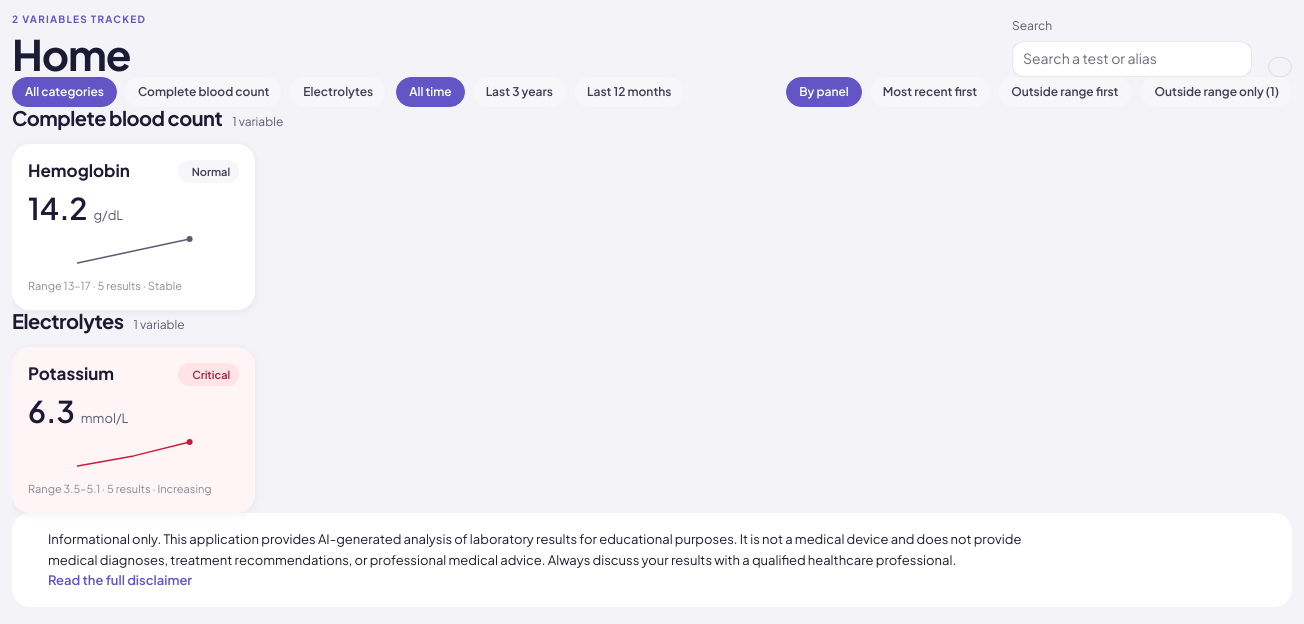
Test: Variables › filters to out-of-range results and counts them
Check: the link "Hemoglobin Normal 14.2 g/dL Range 13–17 · 5 results · Stable" is shown, box [12,144,255,310]
Click the button "Outside range only (1)" at (1217, 92), box [1142,76,1292,107]
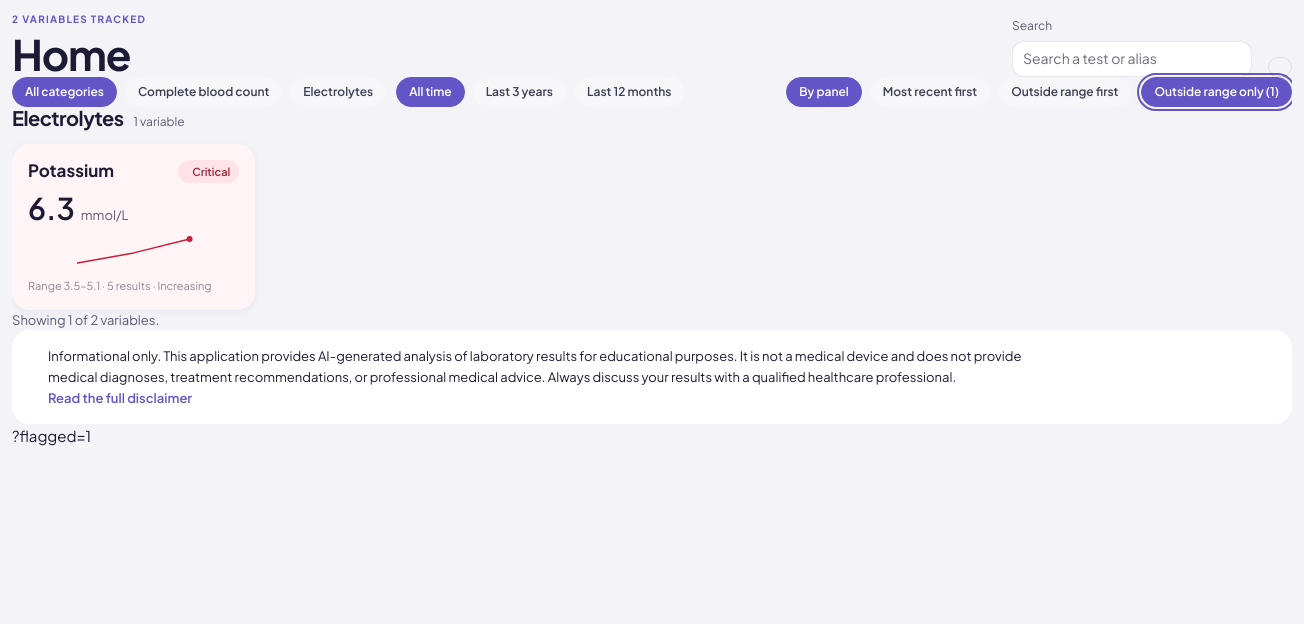
Check: the link "Potassium" is shown, box [12,144,255,310]
Check: the link "Hemoglobin" is gone
